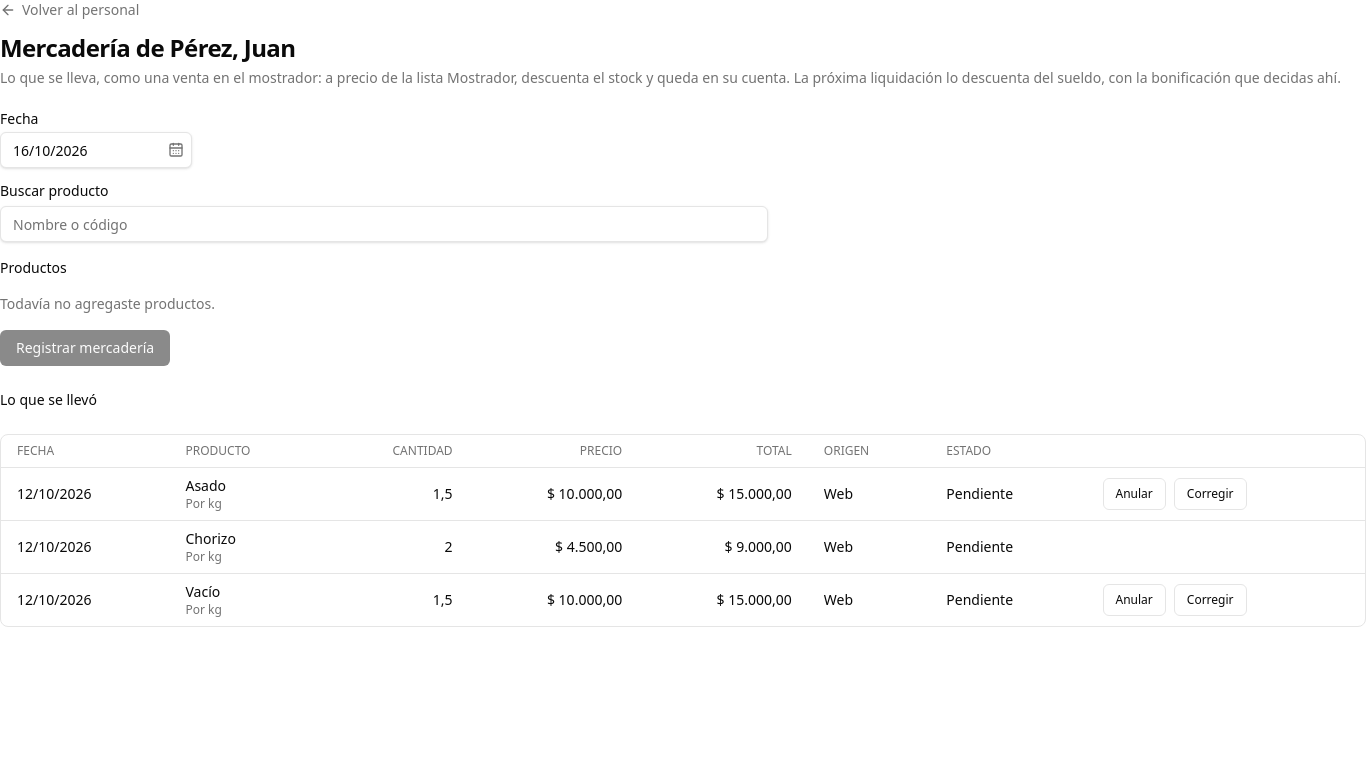
it: EmployeeGoodsPage › voiding and correcting a registration › voids a whole registration after confirming, and lists what is left
# One pair of actions per registration (its two items share it).
Step 1. Click the button with aria-label "Anular la carga del 12/10/2026 (Asado, Chorizo)" → (1134,494), box [1102,478,1166,510]
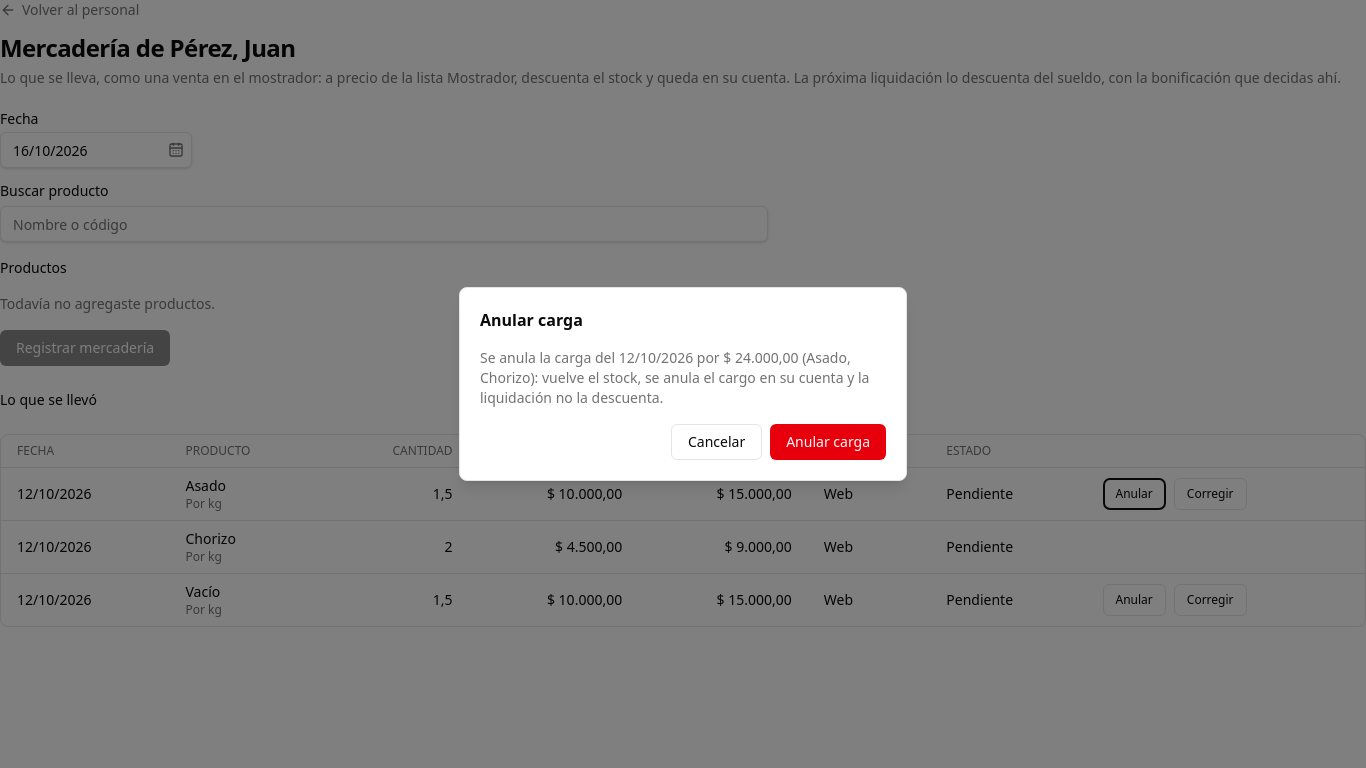
Step 2. Click the button "Anular carga" → (828,442), box [770,424,886,460]
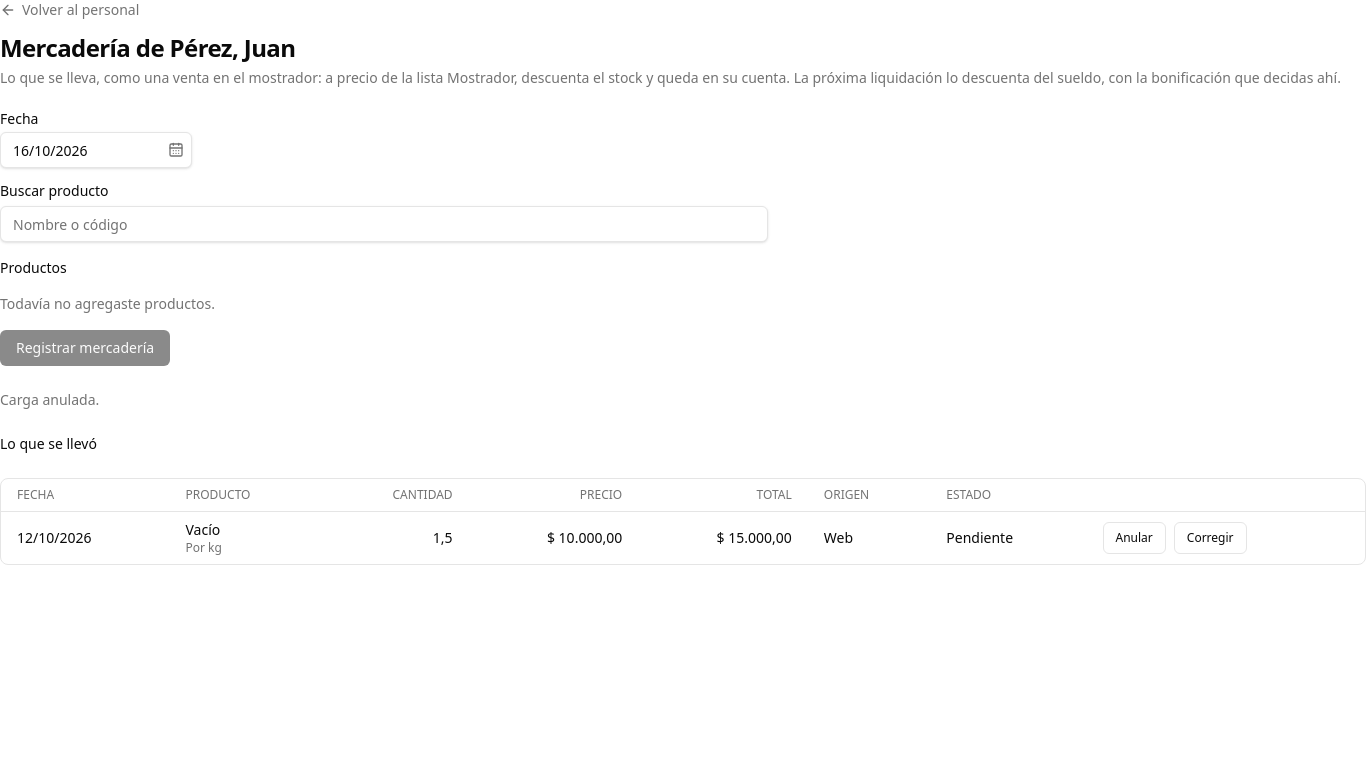
Expected: the text "Vacío" is shown, [186,520,220,539]
Expected: the text "Carga anulada." is shown, [0,390,99,409]
Expected: the text "Chorizo" is gone
